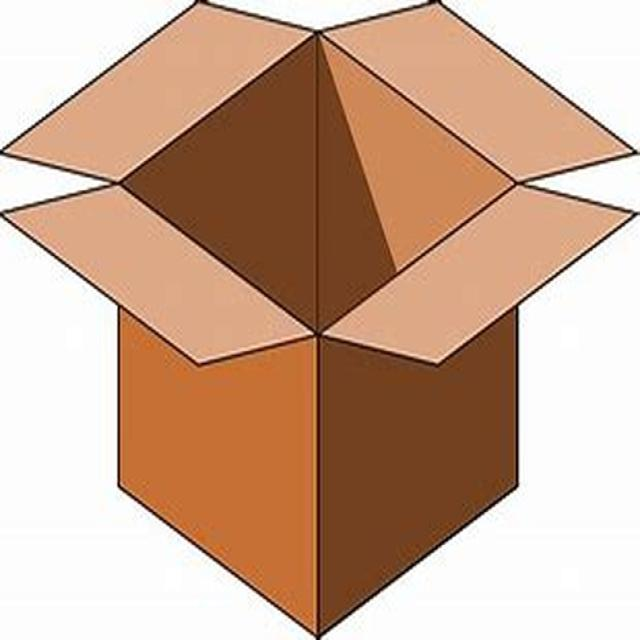box: (87, 0, 560, 625)
